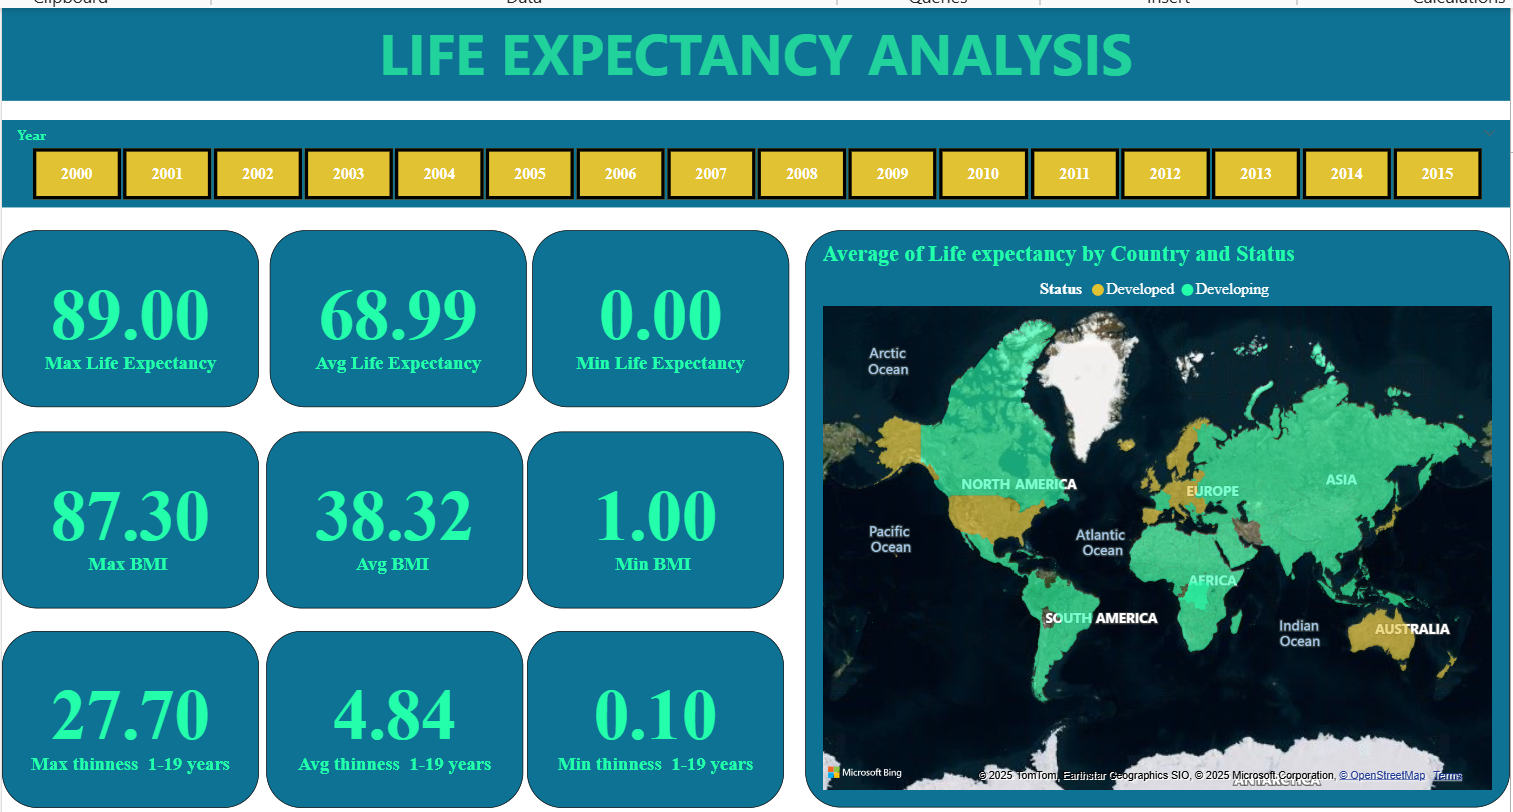

The page's visual inventory and layout, read from the dashboard file:
{"tool":"powerbi","page":{"name":"Page 1","canvas":[1280,720],"ordinal":0},"visuals":[{"type":"textbox","box":[0,0,1279.8,78.8],"z":0},{"type":"slicer","fields":{"Values":["Life Expectancy Data.Year"]},"box":[0,95.1,1279.8,74.3],"z":1000},{"type":"filledMap","fields":{"Category":["Life Expectancy Data.Country"],"Series":["Life Expectancy Data.Status"]},"box":[682.3,188.8,597.5,490.5],"z":2001},{"type":"card","fields":{"Values":["Max(Life Expectancy Data.Life expectancy)"]},"box":[0,188.3,218.5,150.1],"z":2002},{"type":"card","fields":{"Values":["Avg(Life Expectancy Data.Life expectancy)"]},"box":[227.4,188.3,218.5,150.1],"z":2003},{"type":"card","fields":{"Values":["Min(Life Expectancy Data.Life expectancy)"]},"box":[450.4,188.3,218.5,150.1],"z":2004},{"type":"card","fields":{"Values":["Max(Life Expectancy Data. BMI )"]},"box":[0,359.7,218.5,150.1],"z":2005},{"type":"card","fields":{"Values":["Avg(Life Expectancy Data. BMI )"]},"box":[224.4,359.7,218.5,150.1],"z":2006},{"type":"card","fields":{"Values":["Min(Life Expectancy Data. BMI )"]},"box":[445.9,359.7,218.5,150.1],"z":2007},{"type":"card","fields":{"Values":["Max(Life Expectancy Data. thinness  1-19 years)"]},"box":[-0.2,528.5,218.5,150.1],"z":2008},{"type":"card","fields":{"Values":["Avg(Life Expectancy Data. thinness  1-19 years)"]},"box":[224.3,528.5,218.5,150.1],"z":2009},{"type":"card","fields":{"Values":["Min(Life Expectancy Data. thinness  1-19 years)"]},"box":[445.7,528.5,218.5,150.1],"z":2010}]}

Visuals, with their boxes on the page's 1280x720 design canvas (x1, y1, x2, y2). These are canvas units, not pixel positions in the 1513x812 screenshot, which may show the page scaled, cropped or inside an application window:
textbox: select_region(0, 0, 1280, 79)
slicer - Life Expectancy Data.Year: select_region(0, 95, 1280, 169)
filledMap - Life Expectancy Data.Country x Life Expectancy Data.Status: select_region(682, 189, 1280, 679)
card - Max(Life Expectancy Data.Life expectancy): select_region(0, 188, 218, 338)
card - Avg(Life Expectancy Data.Life expectancy): select_region(227, 188, 446, 338)
card - Min(Life Expectancy Data.Life expectancy): select_region(450, 188, 669, 338)
card - Max(Life Expectancy Data. BMI ): select_region(0, 360, 218, 510)
card - Avg(Life Expectancy Data. BMI ): select_region(224, 360, 443, 510)
card - Min(Life Expectancy Data. BMI ): select_region(446, 360, 664, 510)
card - Max(Life Expectancy Data. thinness  1-19 years): select_region(0, 528, 218, 679)
card - Avg(Life Expectancy Data. thinness  1-19 years): select_region(224, 528, 443, 679)
card - Min(Life Expectancy Data. thinness  1-19 years): select_region(446, 528, 664, 679)
